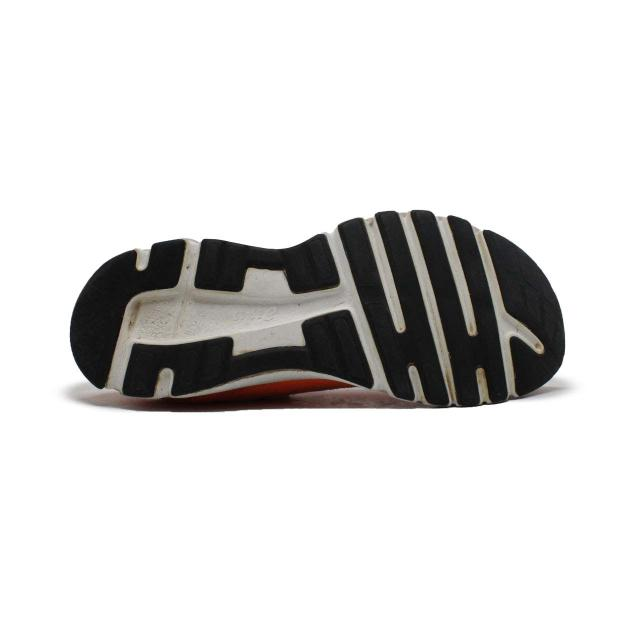outersole: (70, 212, 567, 412)
